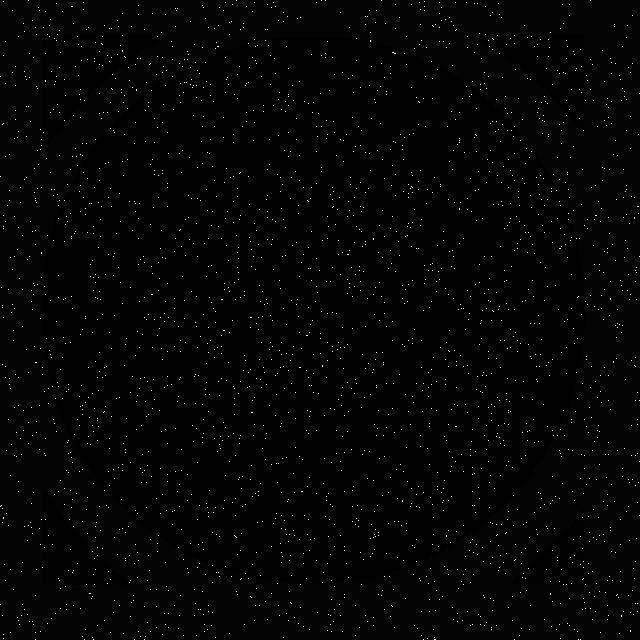Circle: (42, 39, 582, 582)
